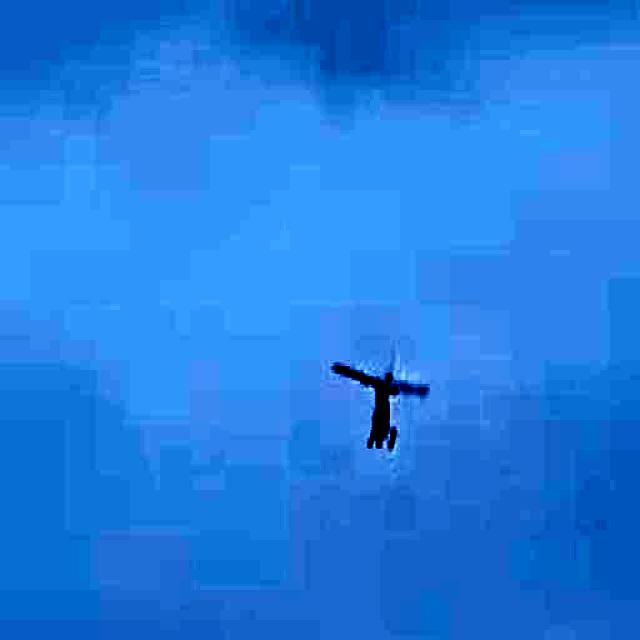drone: (334, 354, 428, 460)
